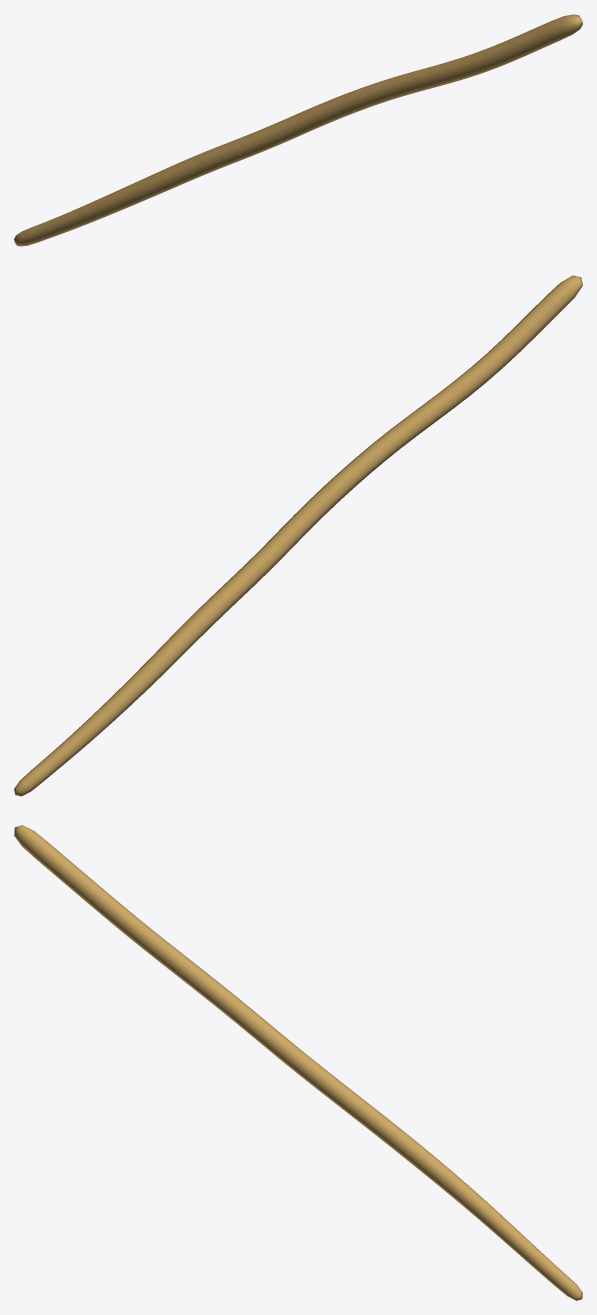
3 renders of one model, top to bottom at view 1: azimuth 90°, elevation 25°; view 2: azimuth 150°, elevation 25°; view 3: azimuth 270°, elevation 25°, orthographic. The views are drawn at different scales.
Parts seen in each view (by area): view 1: 右侧茎突舌骨韧带; view 2: 右侧茎突舌骨韧带; view 3: 右侧茎突舌骨韧带.
Part boxes in pixels (left/top/right/bottom): 右侧茎突舌骨韧带: left=14, top=14, right=582, bottom=246; 右侧茎突舌骨韧带: left=14, top=275, right=582, bottom=796; 右侧茎突舌骨韧带: left=14, top=825, right=582, bottom=1300.
Size of the model in its own units: 0.0367 by 0.0473 by 0.0692.
